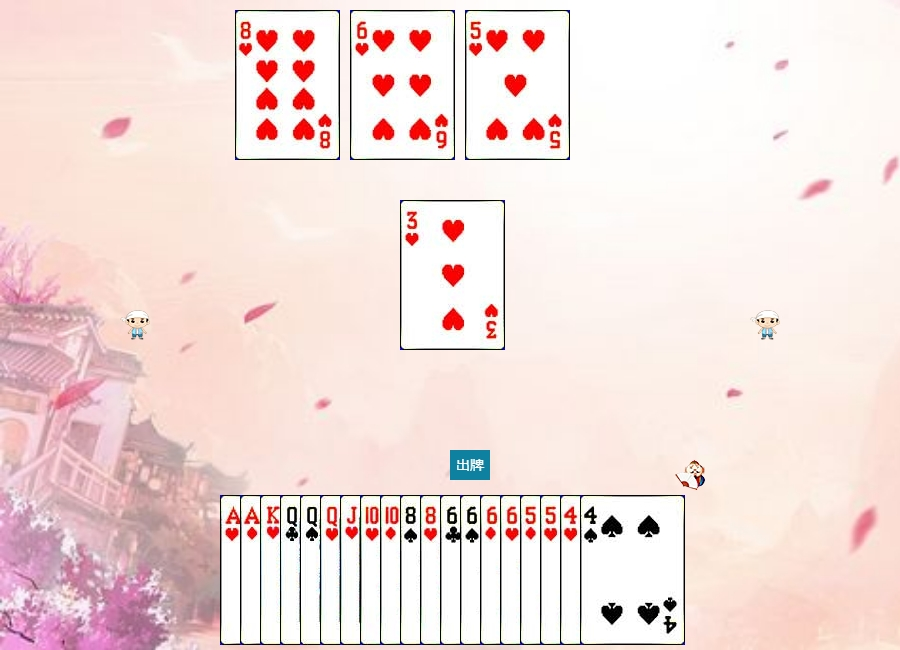10~1: (380, 495, 485, 645)
10~3: (360, 495, 465, 645)
11~3: (340, 495, 445, 645)
12~2: (280, 495, 385, 645)
12~3: (320, 495, 425, 645)
12~4: (300, 495, 405, 645)
13~3: (260, 495, 365, 645)
14~1: (240, 495, 345, 645)
14~3: (220, 495, 325, 645)
3~3: (400, 200, 505, 350)
4~3: (560, 495, 665, 645)
4~4: (580, 495, 685, 645)
5~1: (520, 495, 625, 645)
5~3: (465, 10, 570, 160), (540, 495, 645, 645)
6~1: (480, 495, 585, 645)
6~2: (440, 495, 545, 645)
6~3: (350, 10, 455, 160), (500, 495, 605, 645)
6~4: (460, 495, 565, 645)
8~3: (235, 10, 340, 160), (420, 495, 525, 645)
8~4: (400, 495, 505, 645)
